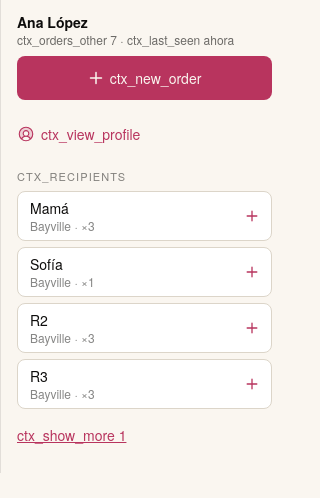
Scenario: ConversationContext › shows the customer, a new-order link, and per-recipient order links
The image size is (320, 498).
Expected: the text "Ana López" is shown, [17,12,88,32]
Expected: the text "ctx_orders_other 7 · ctx_last_seen ahora" is shown, [17,32,272,48]
Click the button "ctx_show_more 1" at (72, 434), box [17,412,126,456]
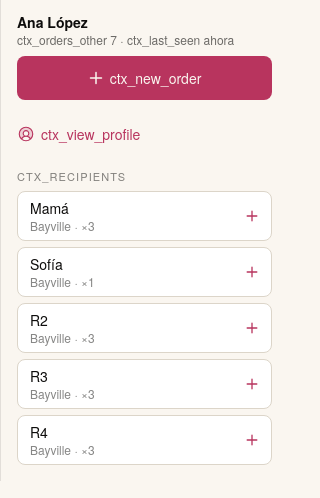
Expected: the link with aria-label "ctx_new_order_for R4" is shown, [17,414,272,464]
